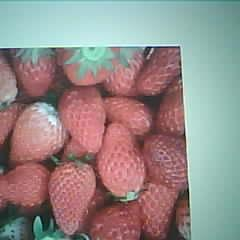straw-ripe: (99, 122, 145, 197), (51, 163, 95, 234), (11, 108, 62, 165), (61, 85, 105, 150)
